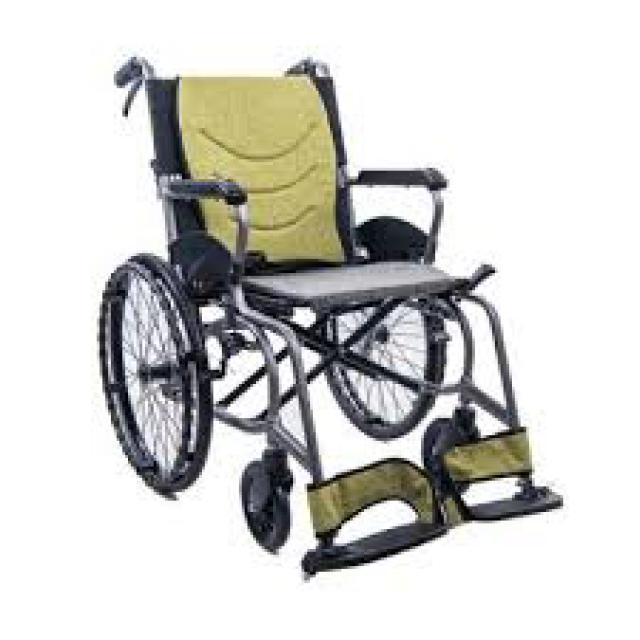wheelchairs: (102, 54, 556, 581)
